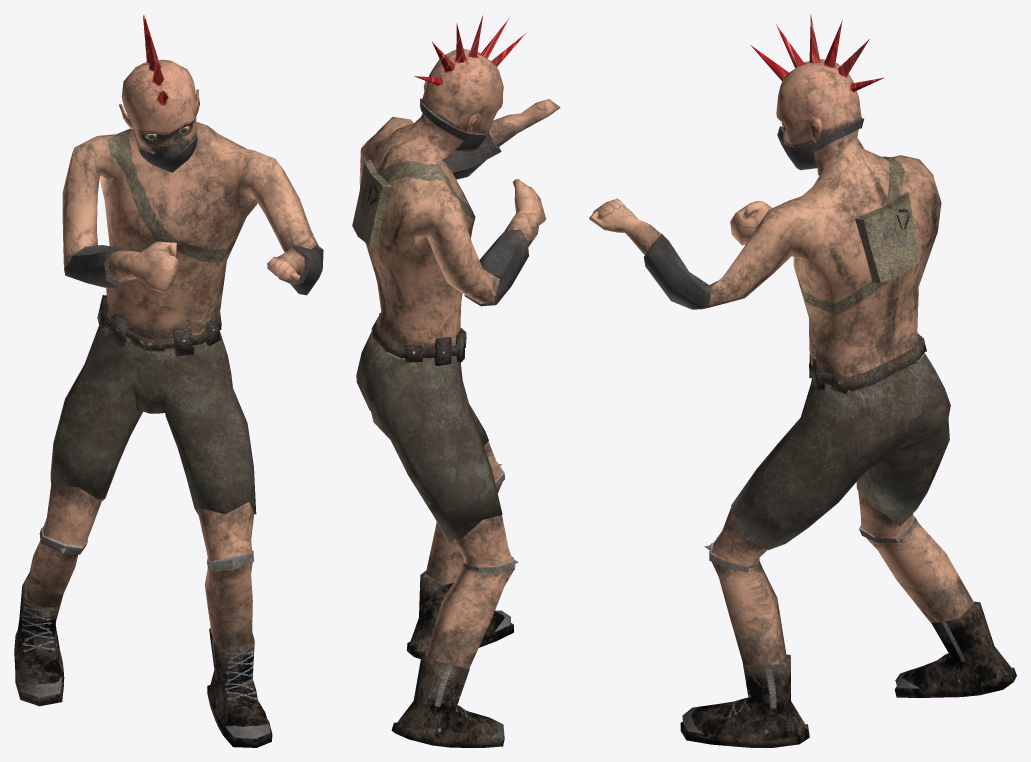
The model's file is Anim_disparar_ametralladora_npc2.0026.obj.
The picture shows the model from 3 angles, left to right: view 1: azimuth 30°, elevation 25°; view 2: azimuth 150°, elevation 25°; view 3: azimuth 270°, elevation 25°; orthographic projection. The views are drawn at different scales.
Visible parts, largest first — view 1: polySurface1; view 2: polySurface1; view 3: polySurface1.
Part boxes in pixels (x1,y1,x2,y2): polySurface1: [14, 15, 323, 747]; polySurface1: [352, 15, 560, 747]; polySurface1: [589, 14, 1016, 747].
Size of the model in its own units: 2.93 by 9.62 by 5.28.
Materials: 2 (2 with a texture image).
